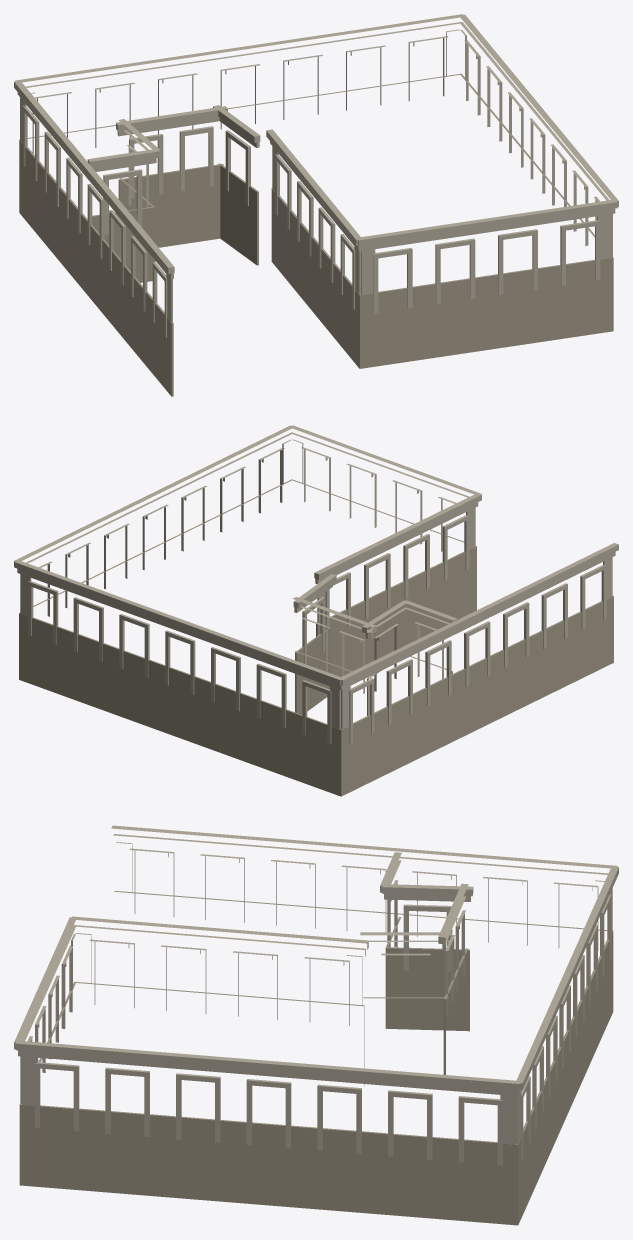
The picture shows the model from 3 angles, top to bottom: view 1: azimuth 30°, elevation 25°; view 2: azimuth 150°, elevation 25°; view 3: azimuth 270°, elevation 25°; orthographic projection. The views are drawn at different scales.
Parts seen in each view (by area): view 1: detail; view 2: detail; view 3: detail.
Boxes of the visible parts, x1,y1,x2,y2 form: detail: (14,14,618,396); detail: (14,425,618,796); detail: (14,825,618,1225).
Size of the model in its own units: 23.1 by 5.98 by 22.84.
